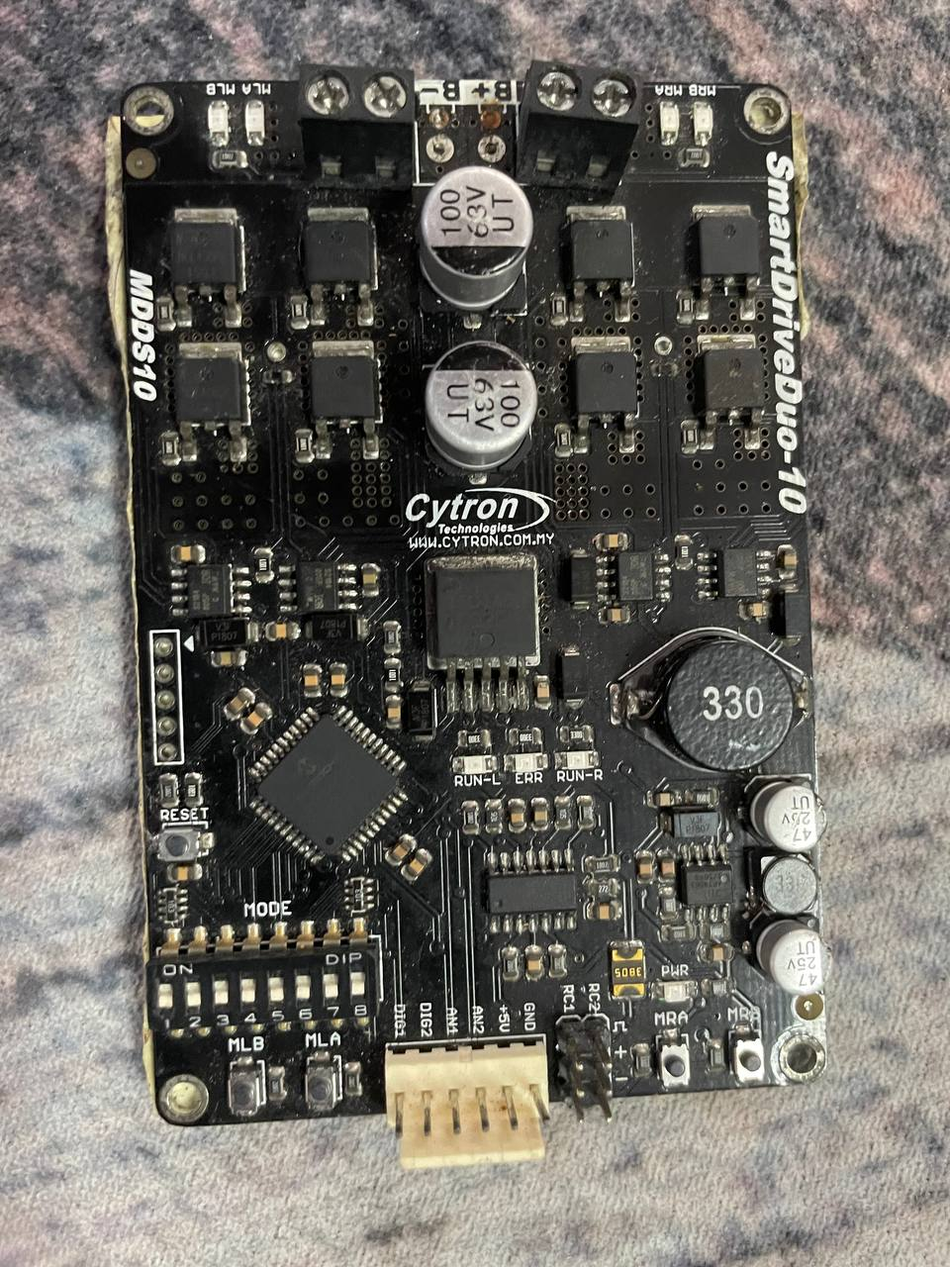missing_tb: (405, 73, 530, 191)
